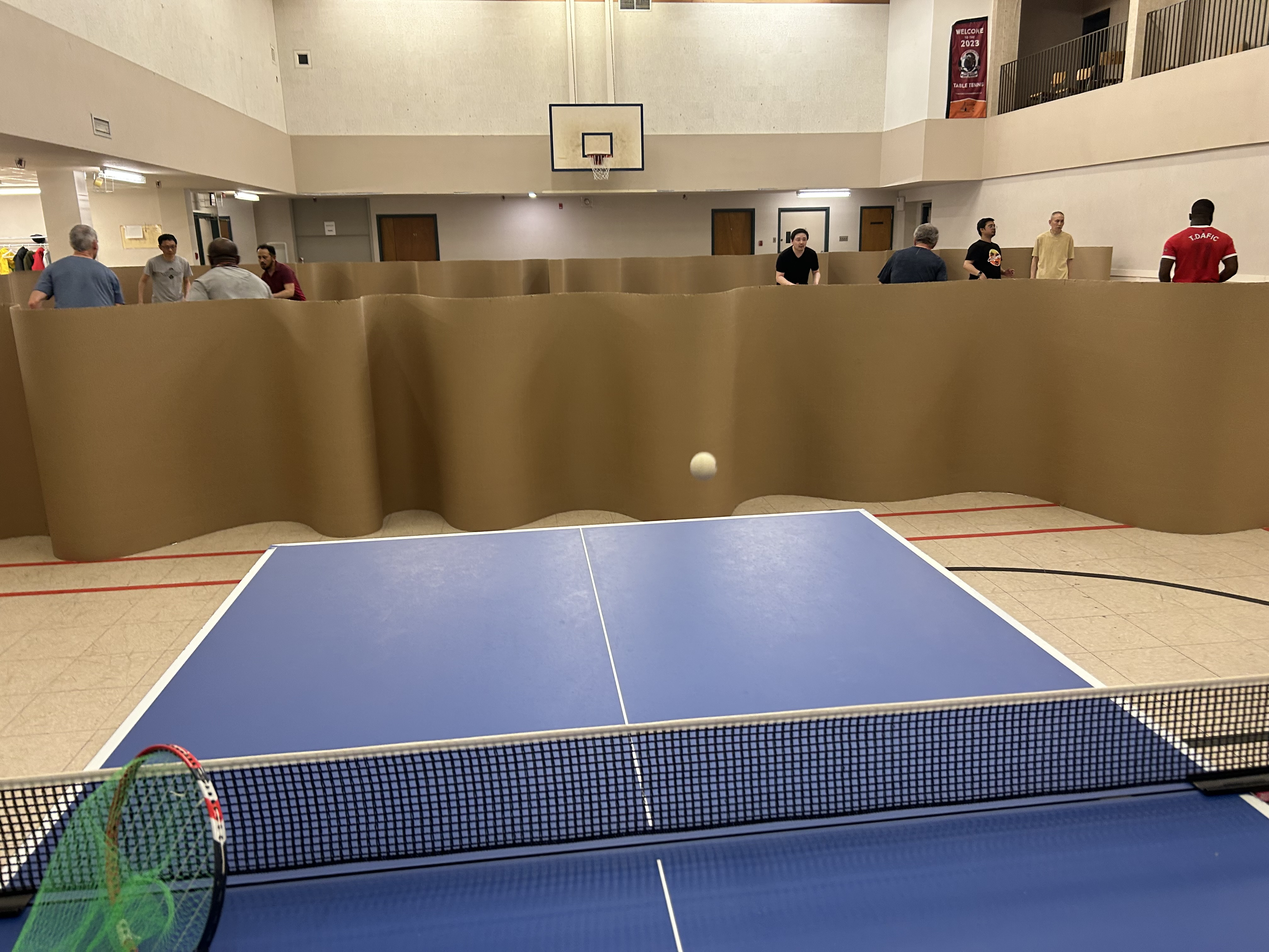Ball: (679, 444, 727, 479)
